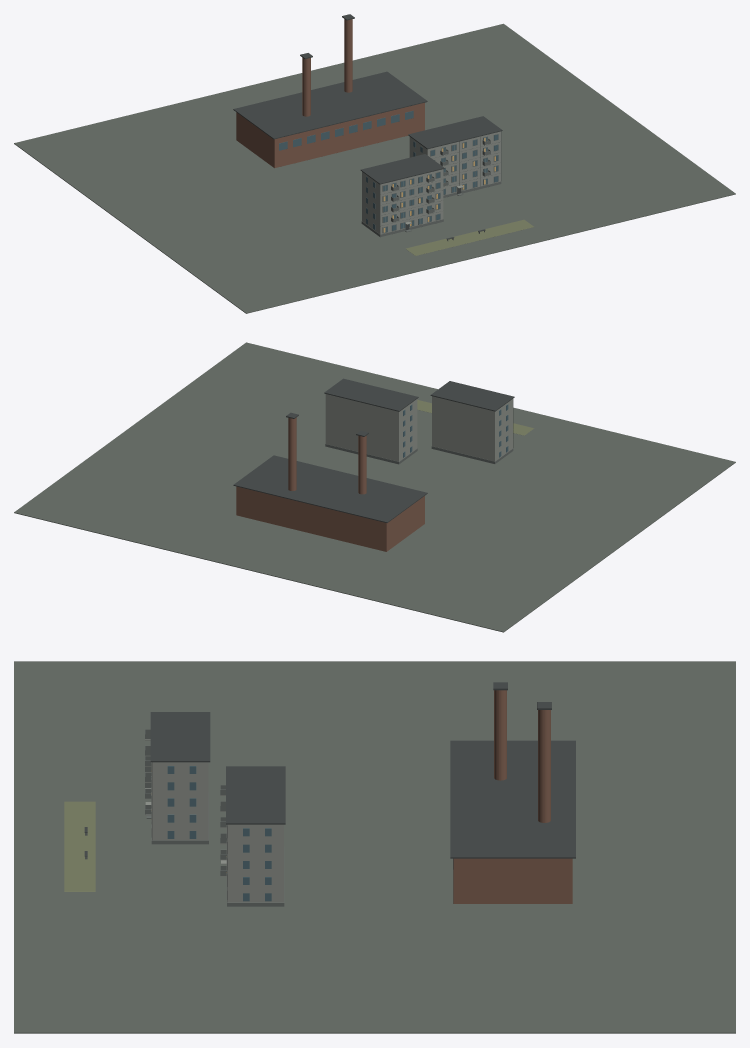
Rendered from exterior.glb.
The picture shows the model from 3 angles, top to bottom: view 1: azimuth 30°, elevation 25°; view 2: azimuth 150°, elevation 25°; view 3: azimuth 270°, elevation 25°; orthographic projection. The views are drawn at different scales.
Visible parts, largest first — view 1: outside-exterior-asphalt, outside-exterior-tar-roof, outside-exterior-factory-brick, outside-exterior-concrete, outside-exterior-panel-seams, outside-exterior-window-glass, outside-exterior-winter-grass; view 2: outside-exterior-asphalt, outside-exterior-tar-roof, outside-exterior-concrete, outside-exterior-factory-brick, outside-exterior-panel-seams; view 3: outside-exterior-asphalt, outside-exterior-tar-roof, outside-exterior-concrete, outside-exterior-factory-brick, outside-exterior-winter-grass, outside-exterior-panel-seams, outside-exterior-window-glass.
Part boxes in pixels (x1=…): outside-exterior-asphalt: x1=14, y1=23, x2=735, y2=313; outside-exterior-tar-roof: x1=233, y1=14, x2=502, y2=239; outside-exterior-factory-brick: x1=236, y1=19, x2=424, y2=168; outside-exterior-concrete: x1=362, y1=131, x2=500, y2=234; outside-exterior-panel-seams: x1=361, y1=131, x2=501, y2=241; outside-exterior-window-glass: x1=279, y1=110, x2=498, y2=232; outside-exterior-winter-grass: x1=406, y1=219, x2=533, y2=255; outside-exterior-asphalt: x1=14, y1=342, x2=735, y2=632; outside-exterior-tar-roof: x1=233, y1=378, x2=514, y2=522; outside-exterior-concrete: x1=325, y1=394, x2=512, y2=461; outside-exterior-factory-brick: x1=236, y1=417, x2=424, y2=551; outside-exterior-panel-seams: x1=325, y1=399, x2=513, y2=464; outside-exterior-asphalt: x1=14, y1=661, x2=735, y2=1033; outside-exterior-tar-roof: x1=84, y1=682, x2=575, y2=858; outside-exterior-concrete: x1=145, y1=739, x2=283, y2=902; outside-exterior-factory-brick: x1=453, y1=690, x2=572, y2=903; outside-exterior-winter-grass: x1=64, y1=801, x2=95, y2=891; outside-exterior-panel-seams: x1=85, y1=729, x2=284, y2=906; outside-exterior-window-glass: x1=167, y1=766, x2=453, y2=901.
Bounding box in the file's own units: 140 × 28.85 × 115.
